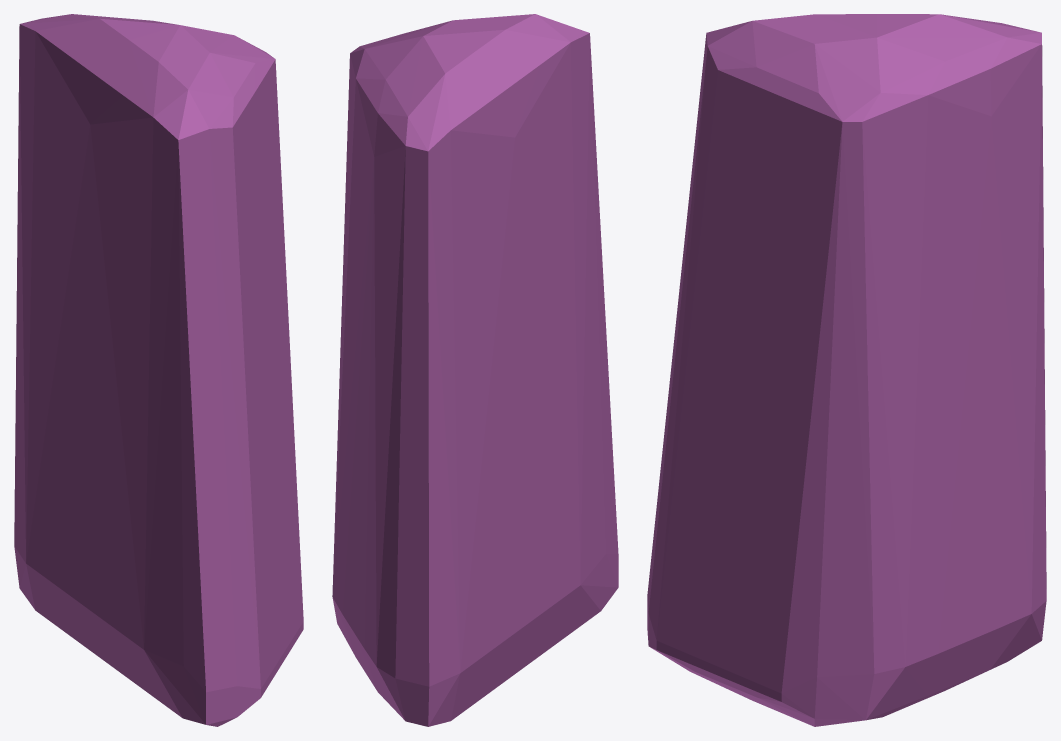
The model's file is right-hip-yaw-0_part_7.obj.
3 views of the same model, side by side, from view 1: azimuth 30°, elevation 25°; view 2: azimuth 150°, elevation 25°; view 3: azimuth 270°, elevation 25° (orthographic). The views are drawn at different scales.
Bounding box in the file's own units: 0.00677 × 0.0222 × 0.012.
